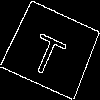T: (26, 24, 71, 79)
